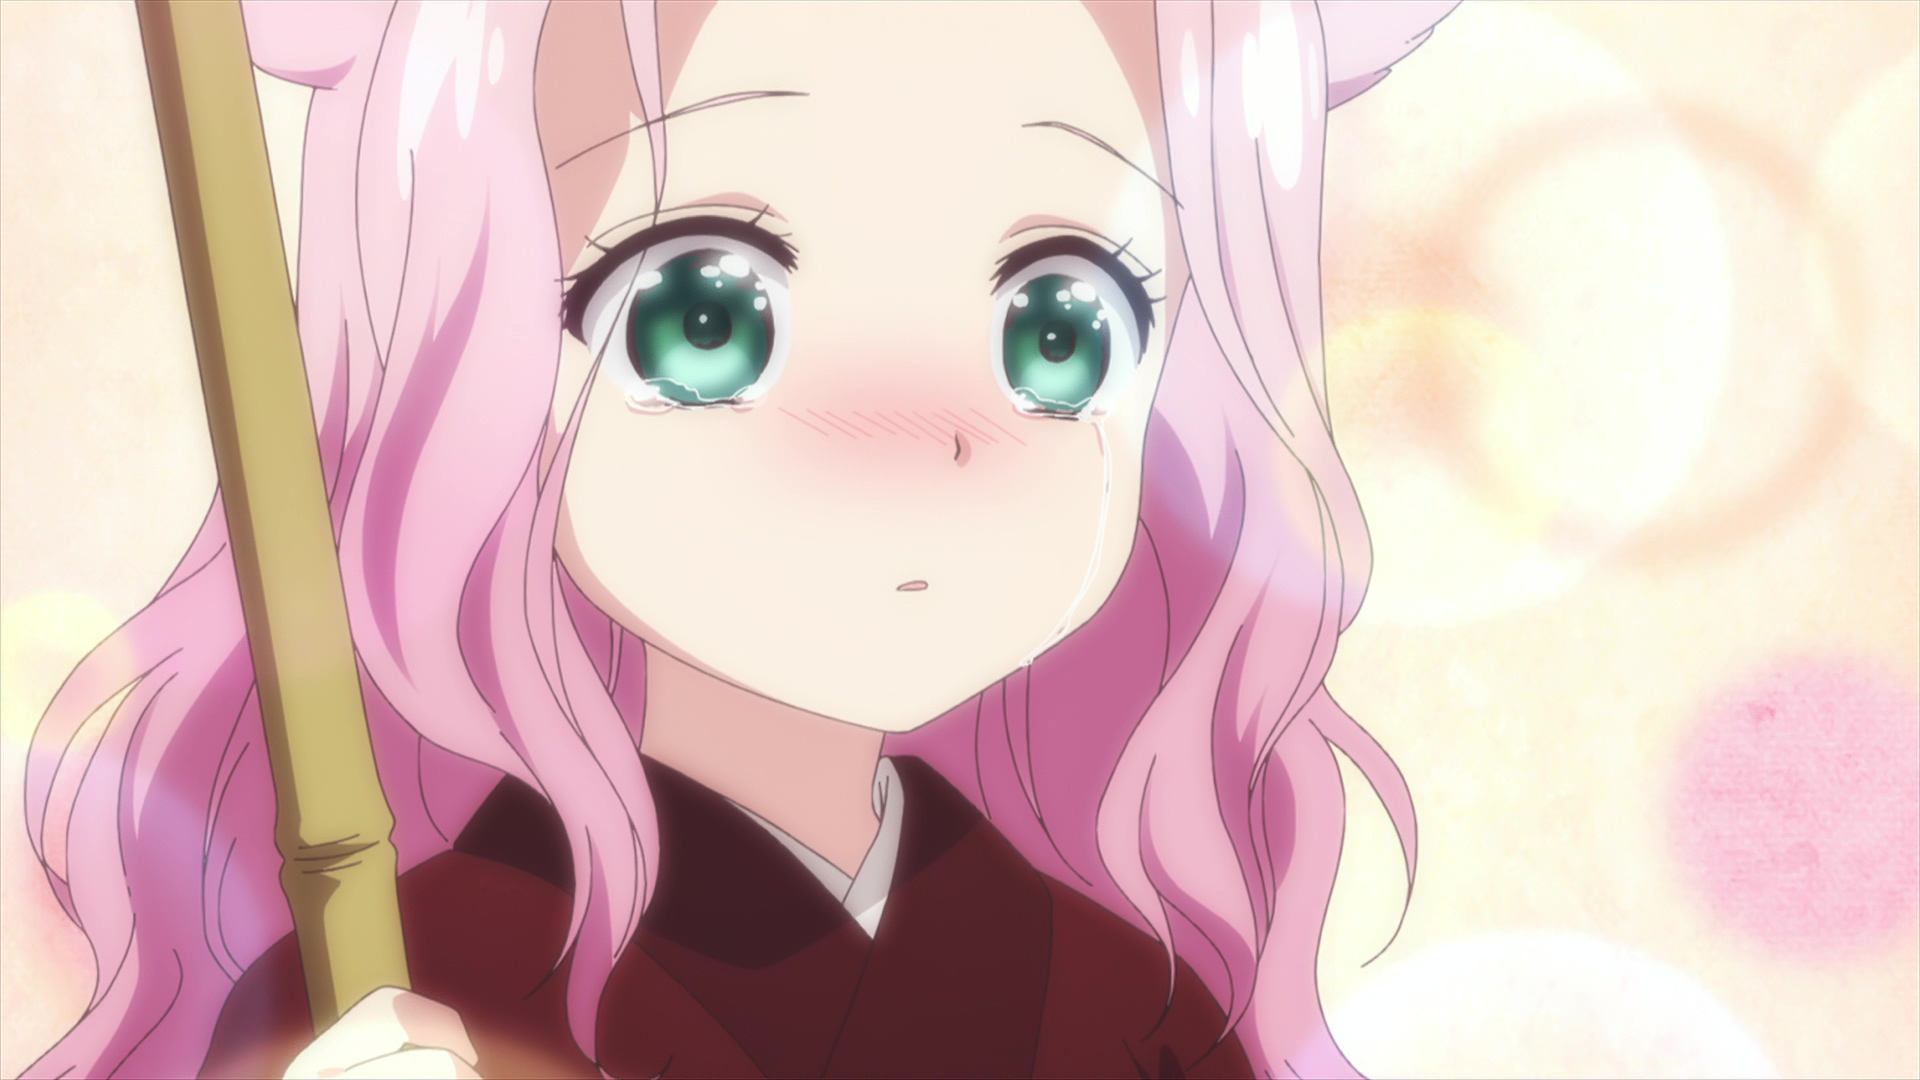莲: (15, 1, 1462, 1080)
